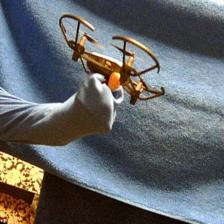drone: (58, 13, 167, 108)
